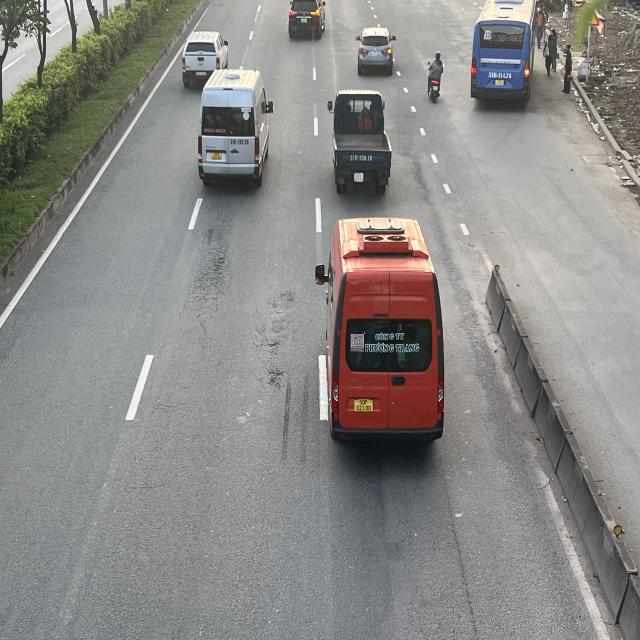car: (183, 32, 230, 86), (354, 28, 396, 75), (288, 0, 328, 38)
coach: (473, 1, 540, 106)
truck: (327, 90, 391, 191)
van: (319, 217, 448, 444), (197, 70, 272, 187)
